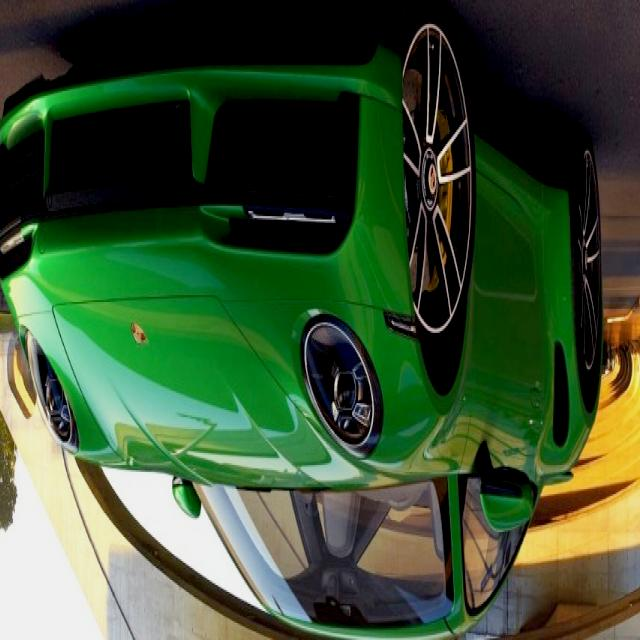green: (8, 0, 610, 636)
